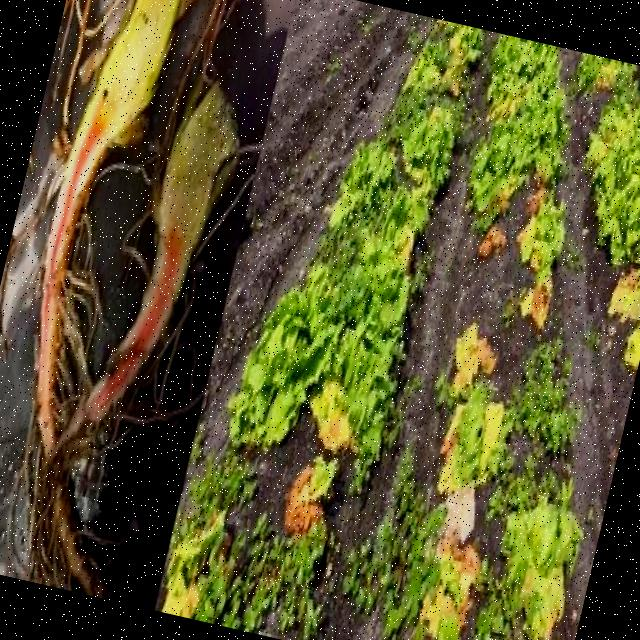Wilt_and_leaf_blight_on_lettuce: (0, 17, 247, 458)
